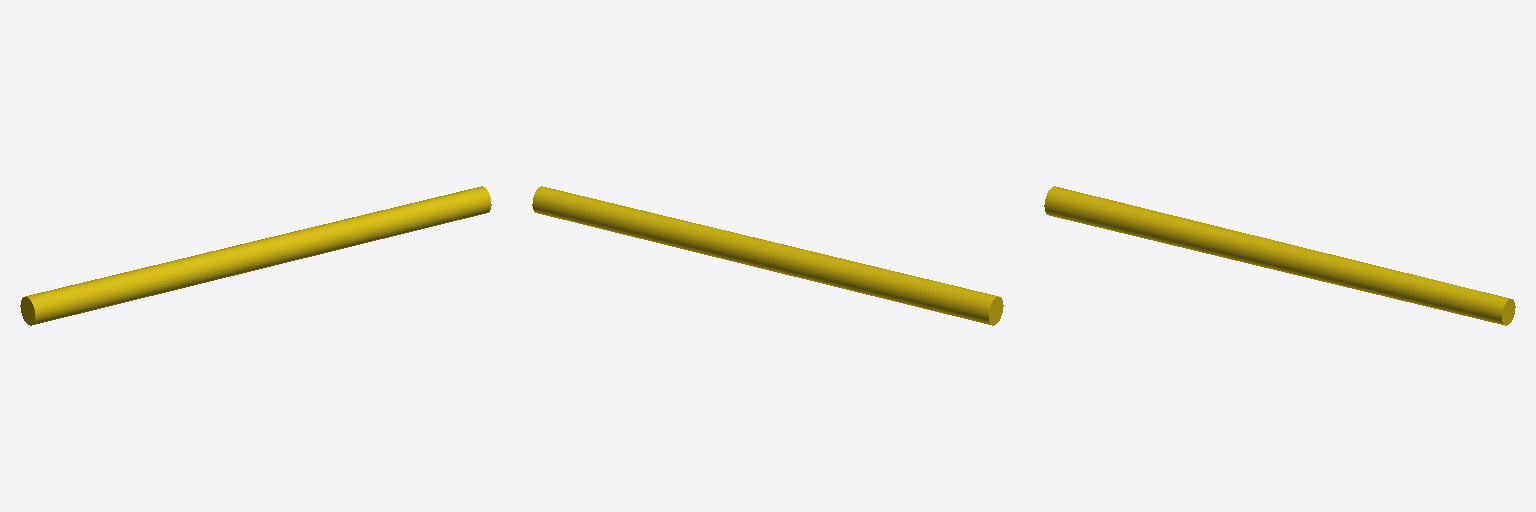
URDF robot description (cb_chopstick_t45rd080):
<?xml version="1.0"?>
<!-- ContactBench chopstick. Generated by FoundationTouch tools/contactbench/make_contactbench_assets.py -->
<robot name="cb_chopstick_t45rd080">
  <material name="c"><color rgba="0.85 0.75 0.10 1.0"/></material>
  <link name="object">
    <visual><origin xyz="0 0 0" rpy="0 0 0"/><geometry><mesh filename="chopstick.obj" scale="1 1 1"/></geometry><material name="c"/></visual>
    <collision><origin xyz="0 0 0" rpy="0 0 0"/><geometry><mesh filename="coll_00.obj" scale="1 1 1"/></geometry></collision>
    <inertial><mass value="6.163321e-04"/><origin xyz="0 0 0" rpy="0 0 0"/><inertia ixx="1.115804e-09" ixy="4.178664e-26" ixz="9.401993e-26" iyy="2.517328e-07" iyz="5.223329e-27" izz="2.517328e-07"/></inertial>
  </link>
</robot>

--- Render facts (derived) ---
3 views of the same robot in one strip: view 1: azimuth 30°, elevation 25°; view 2: azimuth 150°, elevation 25°; view 3: azimuth 330°, elevation 25° (orthographic).
Model cb_chopstick_t45rd080 with 1 links and 0 joints (none), rooted at object, posed every joint at zero.
Visible links, largest first — view 1: object; view 2: object; view 3: object.
Link boxes in pixels (left/top/right/bottom): object: left=20, top=186, right=491, bottom=325; object: left=532, top=186, right=1003, bottom=325; object: left=1044, top=186, right=1515, bottom=325.
Size in the robot's own frame: 0.07 by 0.004 by 0.004 metres.
1 mesh visuals loaded from 1 distinct referenced files (1 OBJ).
